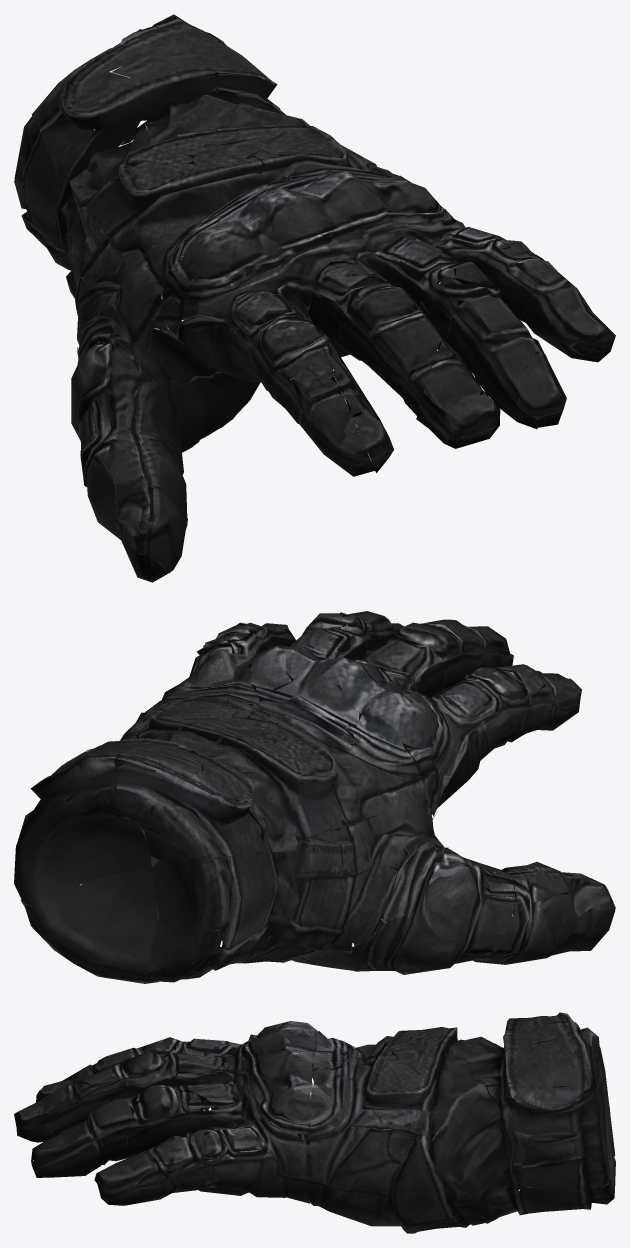
The model's file is p_hand.fbx.
3 views of the same model, one above another, from view 1: azimuth 30°, elevation 25°; view 2: azimuth 150°, elevation 25°; view 3: azimuth 270°, elevation 25° (orthographic). The views are drawn at different scales.
Parts seen in each view (by area): view 1: Part; view 2: Part; view 3: Part.
Boxes of the visible parts, x1,y1,x2,y2 form: Part: (14, 14, 615, 582); Part: (14, 611, 615, 983); Part: (14, 1012, 615, 1233).
Bounding box in the file's own units: 0.1294 × 0.0906 × 0.2.
